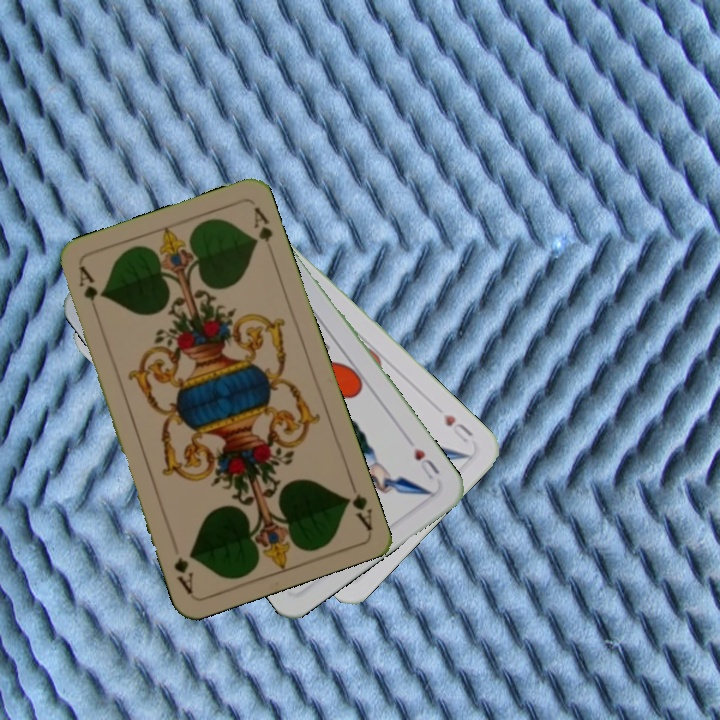GA: (340, 475, 375, 532), (74, 262, 102, 320)
HU: (439, 410, 476, 448), (409, 444, 442, 482)
